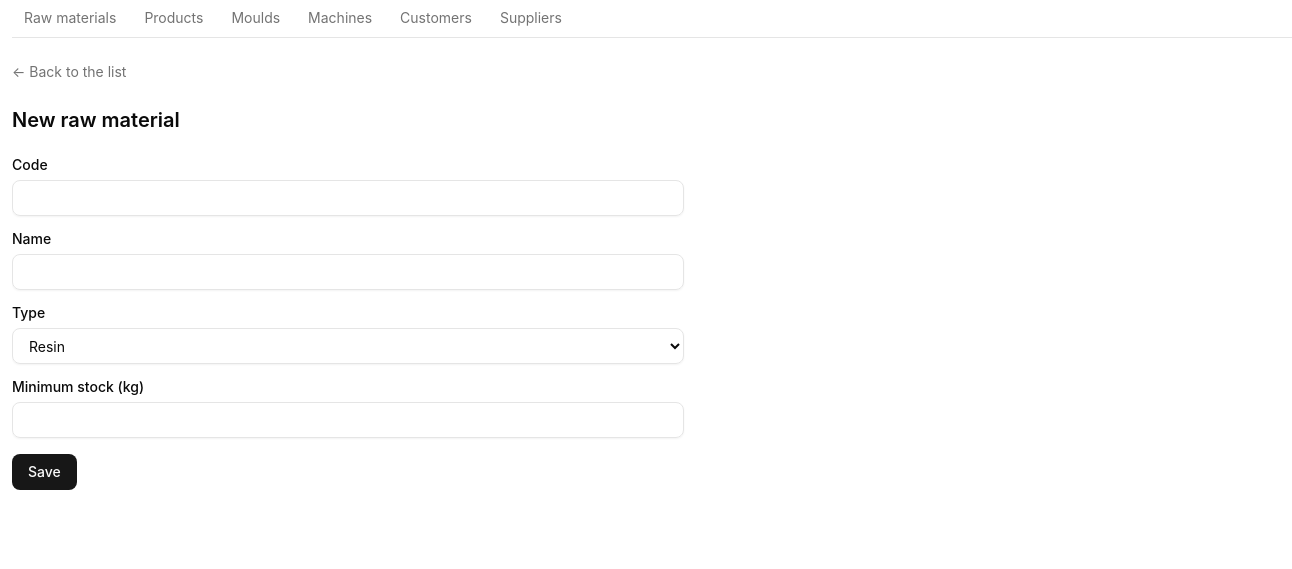
Test: raw materials › puts API errors next to their field, or at the top
Type "RM-PP-01" into the field labelled "Code".
click(348, 198); type("RM-PP-01")  # box [12,180,684,216]
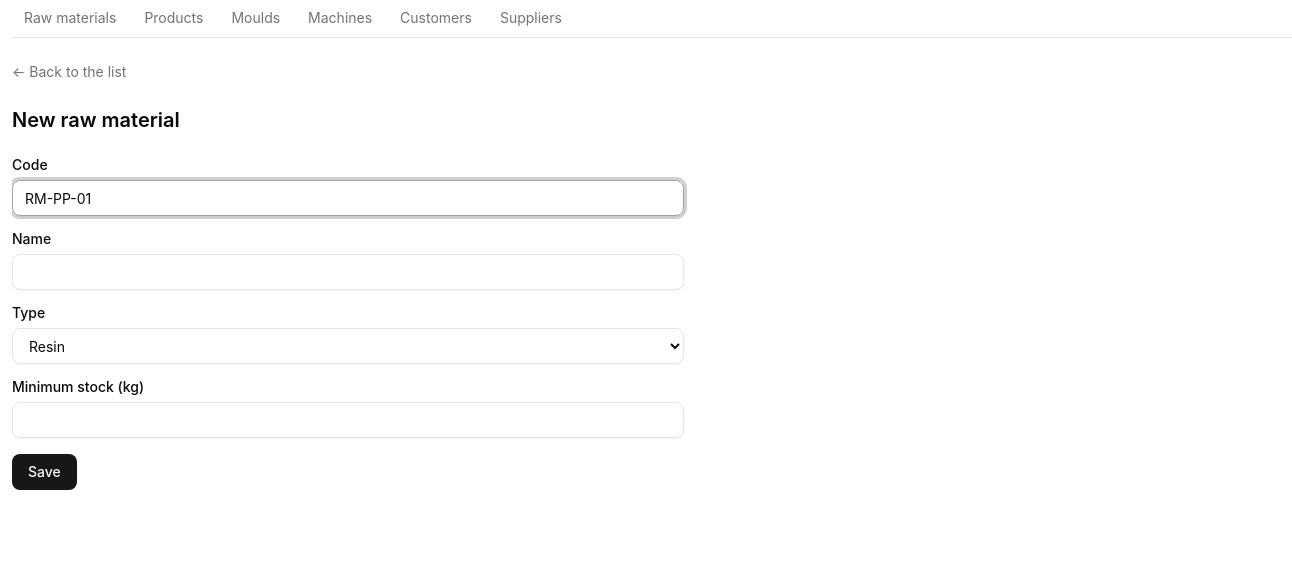
Type "PP" into the field labelled "Name".
click(348, 272); type("PP")  # box [12,254,684,290]
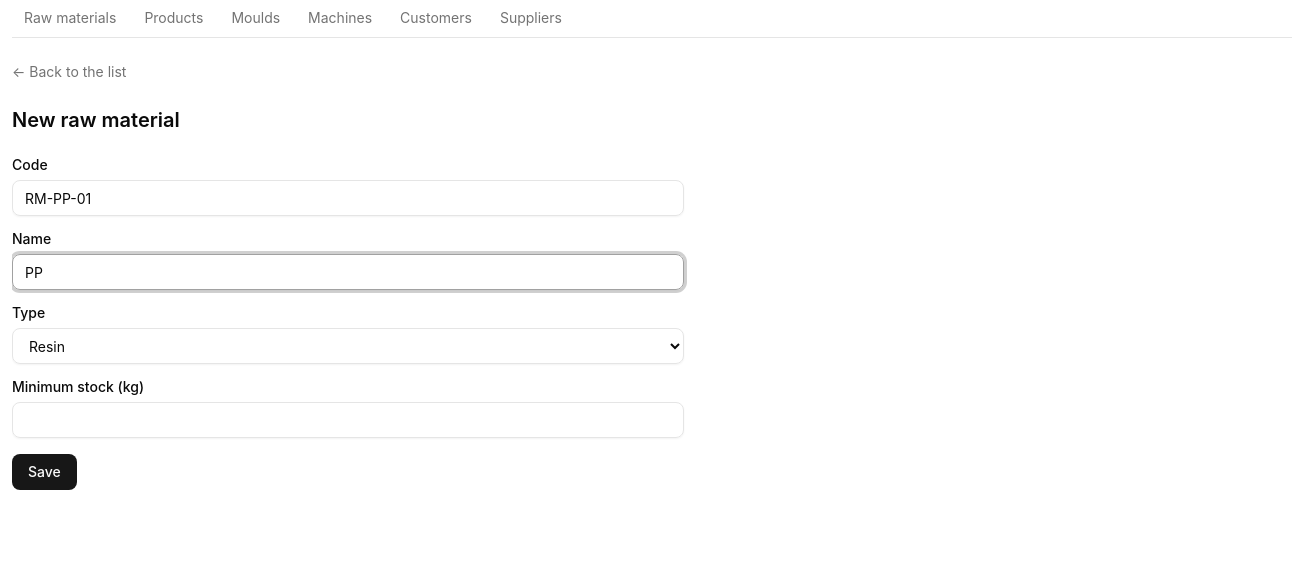
Type "9999999" into the field labelled "Minimum stock (kg)".
click(348, 420); type("9999999")  # box [12,402,684,438]
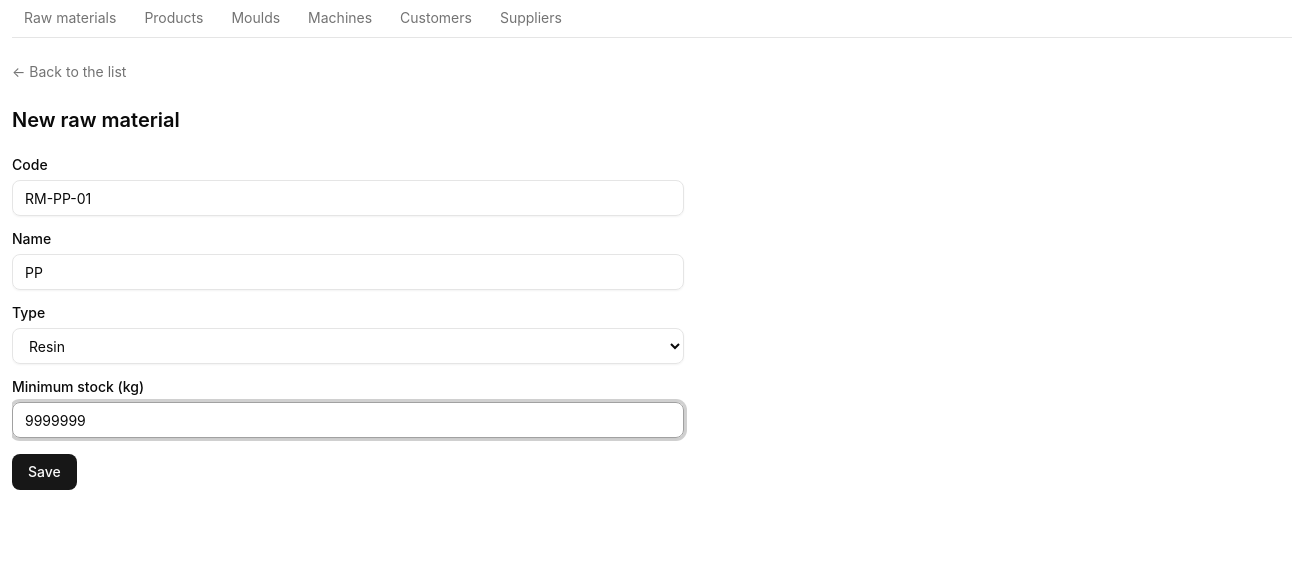
Click the button "Save".
click(44, 472)  # box [12,454,77,490]
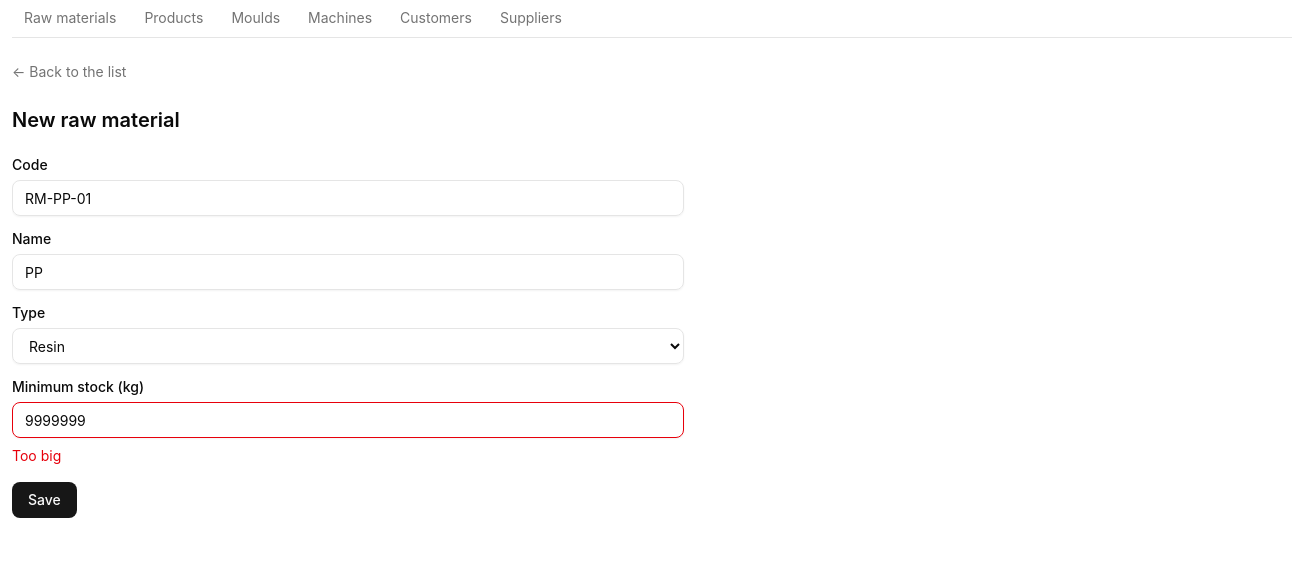
Expected: the text "Too big" is shown, [12,447,61,464]
Click the button "Save".
click(44, 500)  # box [12,482,77,518]
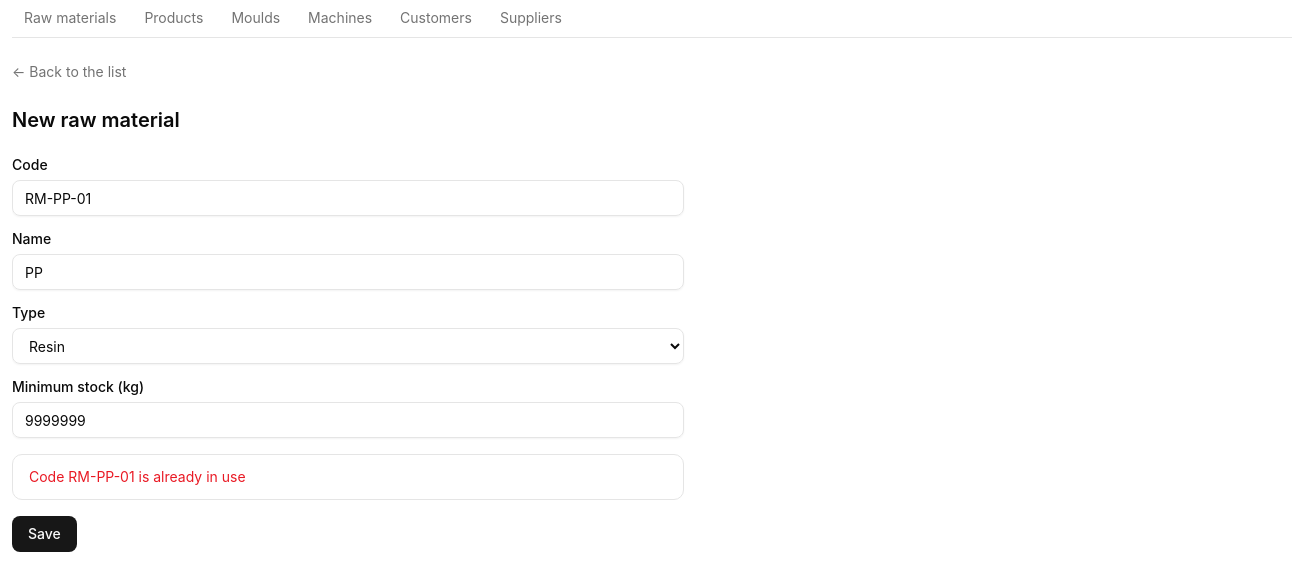
Expected: the message reads "Code RM-PP-01 is already in use", [29,468,246,485]
